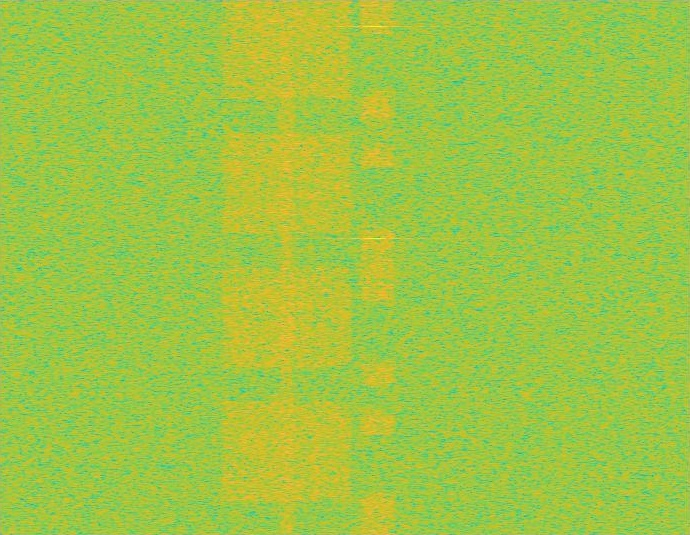5G: (218, 0, 356, 534)
DSSS: (278, 0, 296, 534)
LTE: (360, 0, 395, 534)
Radar: (368, 0, 382, 534)
